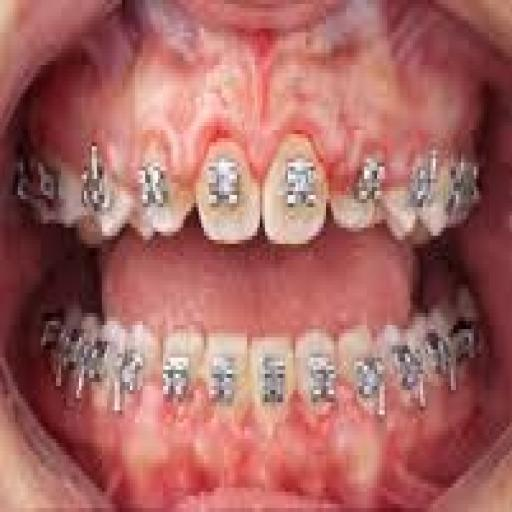incorrect_brace: (133, 131, 195, 241), (332, 126, 387, 238), (202, 148, 244, 217)
